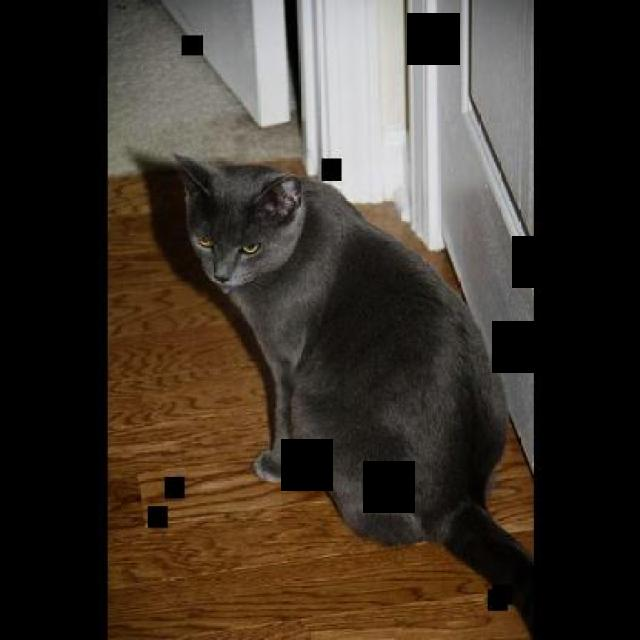unauthorized: (171, 151, 535, 638)
